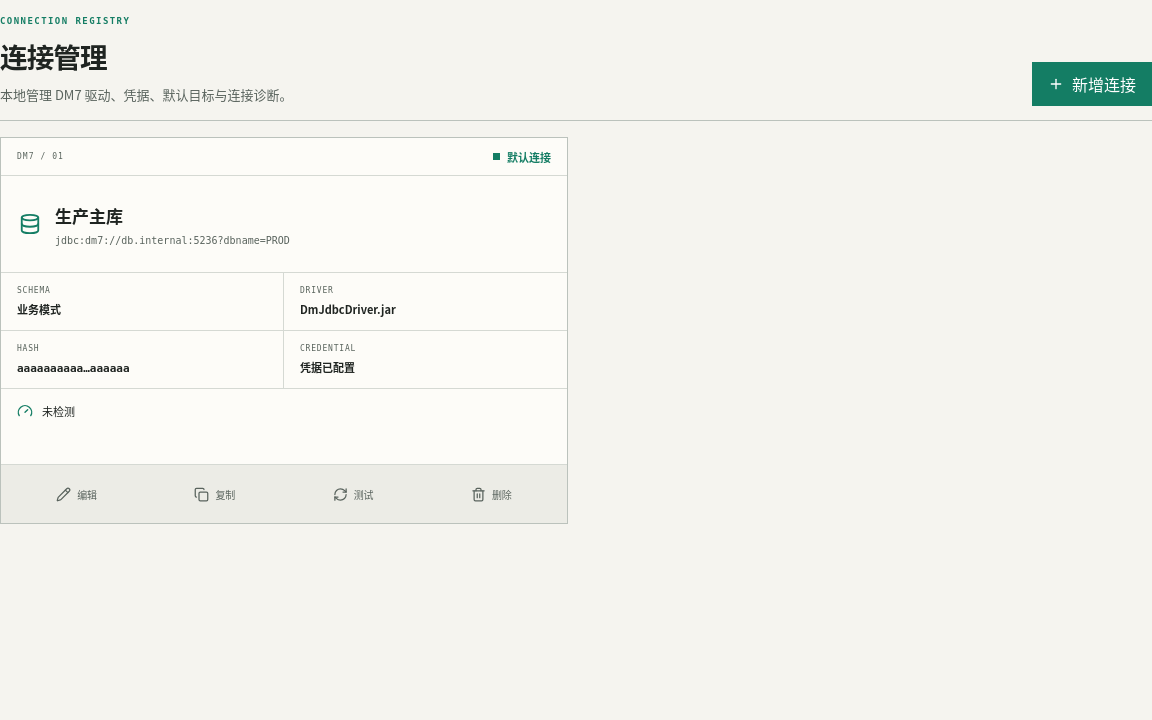
Test: ConnectionsPage › Escape closes only the unsaved confirmation and returns focus without reopening
The width and height of the screenshot is (1152, 720).
Expected: the heading "生产主库" is shown, top-left (55, 203), bottom-right (123, 228)
Click the button with aria-label "编辑生产主库" at [77, 494], box top-left (8, 472), bottom-right (145, 516)
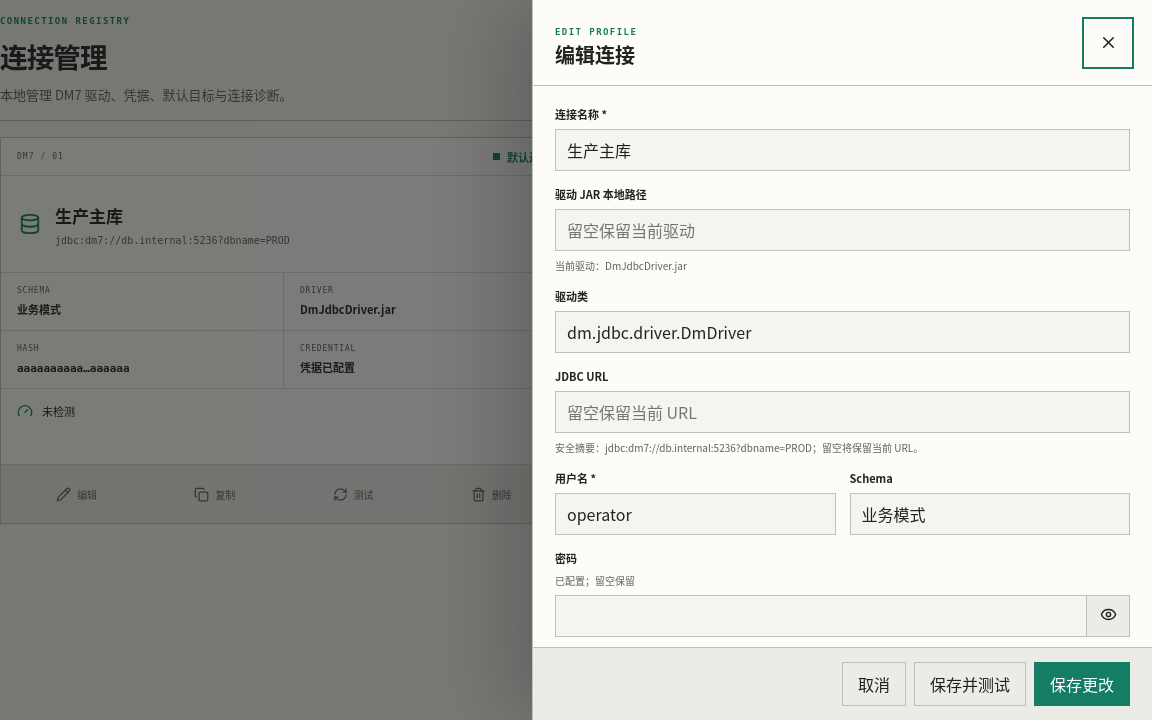
Replace the text in the field labelled "连接名称 *" with "修改" at [842, 150], box top-left (555, 129), bottom-right (1130, 171)
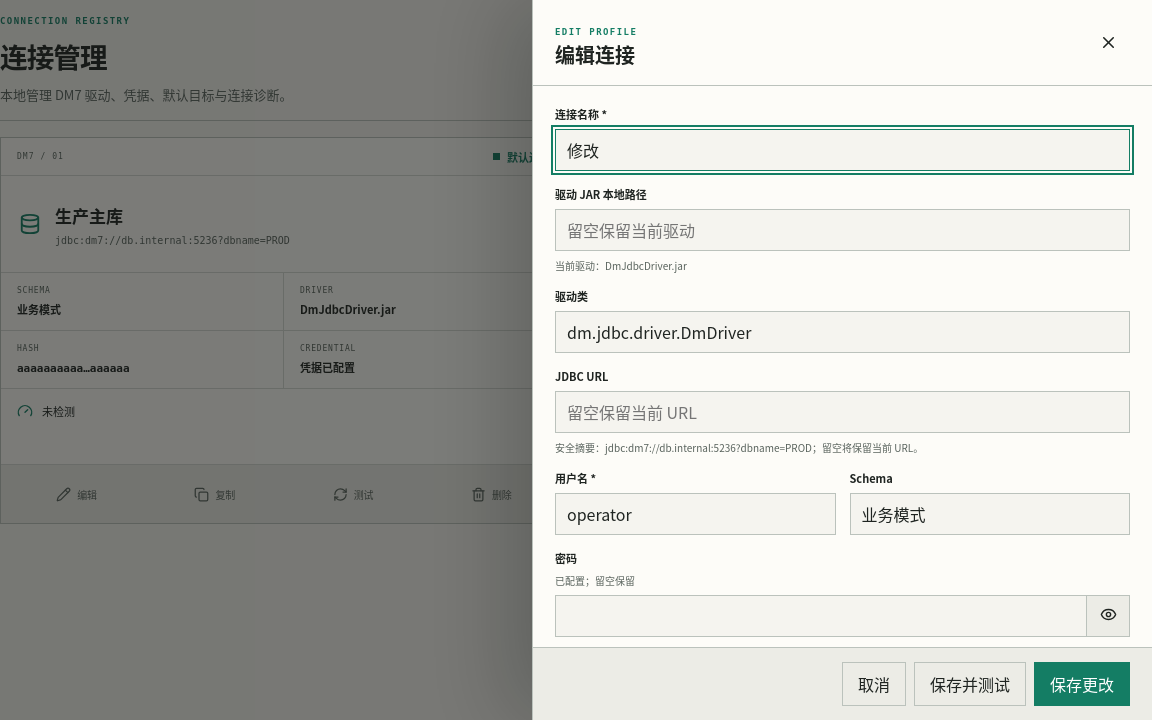
Press Escape
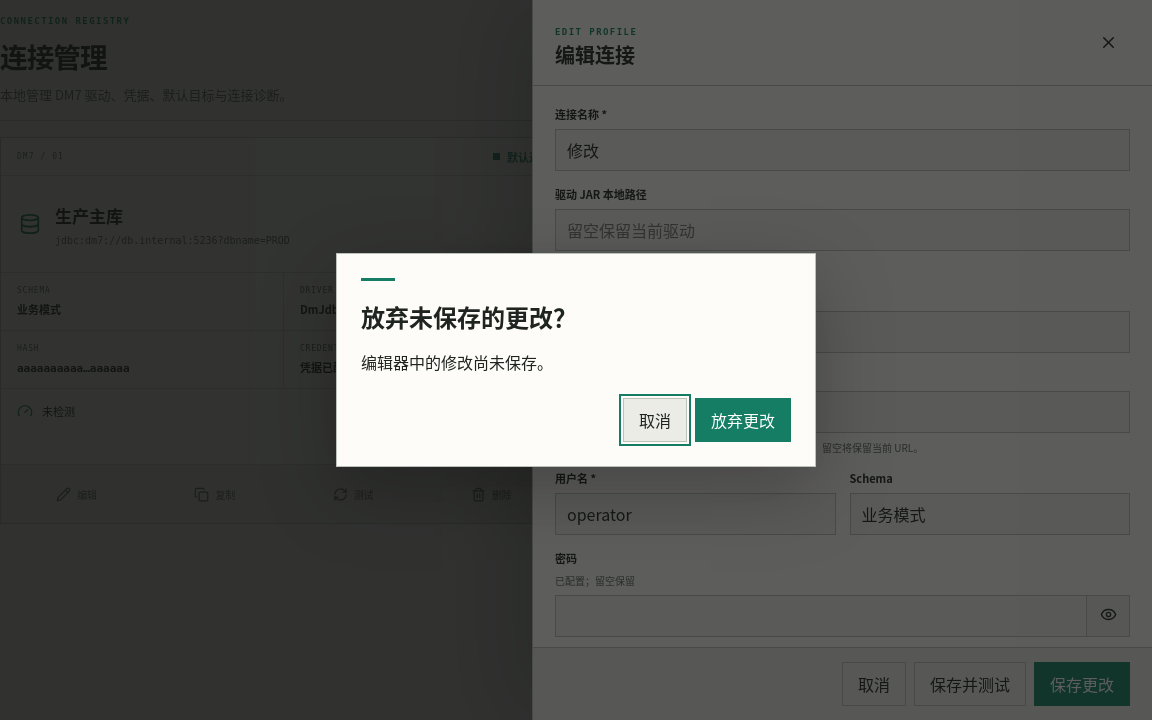
Now the dialog "放弃未保存的更改？" is shown
Press Escape in the dialog "放弃未保存的更改？", box top-left (336, 253), bottom-right (816, 467)
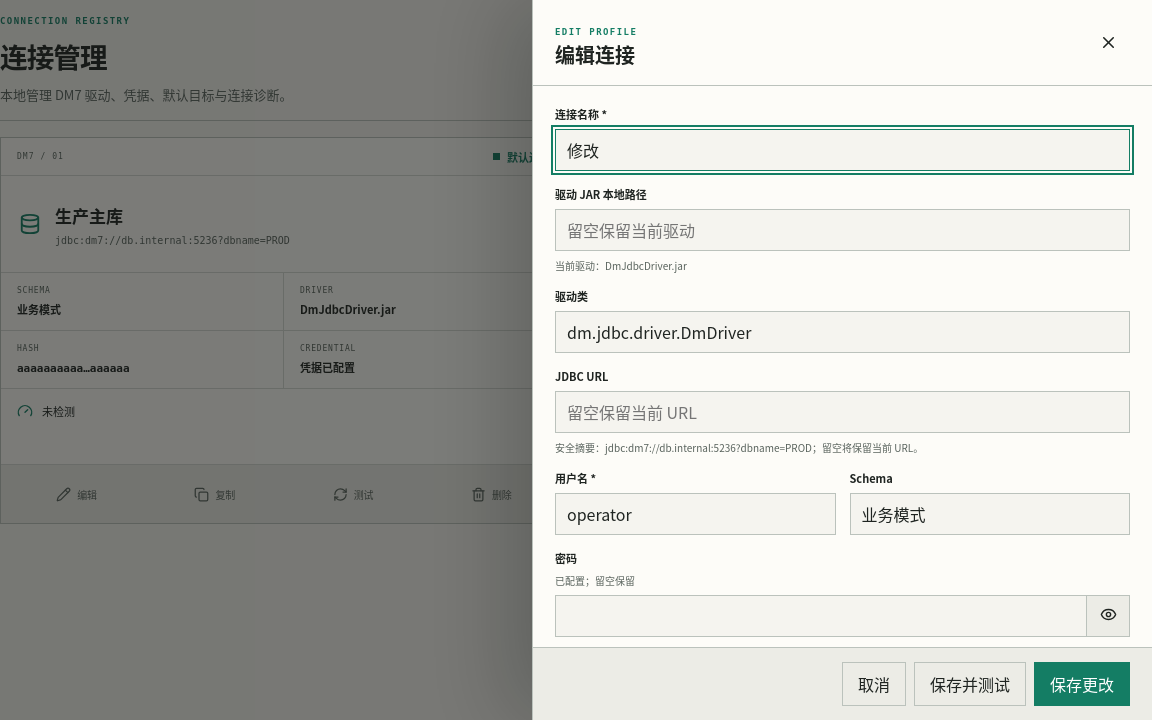
Now the dialog "编辑连接" is shown, box top-left (532, 0), bottom-right (1151, 719)
Now the heading "放弃未保存的更改？" is gone
